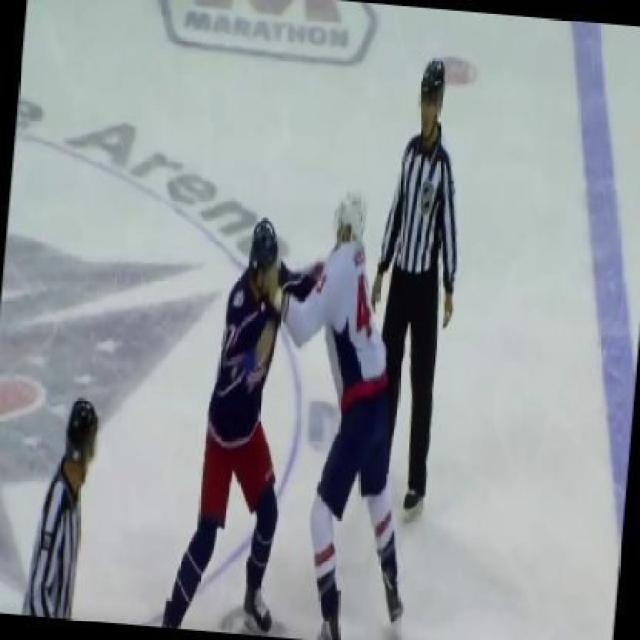fight: (143, 186, 448, 639)
non-fight: (342, 52, 496, 514), (3, 388, 117, 626)
